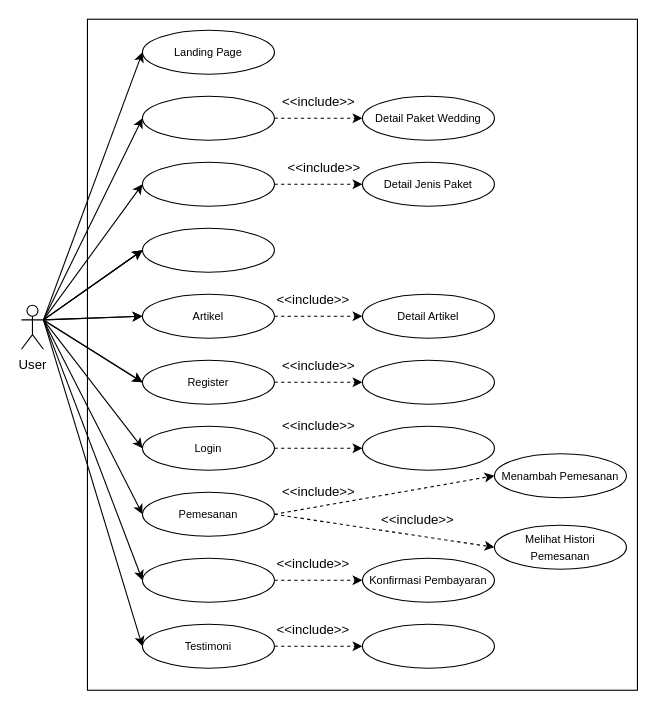
Some shapes in this 657 by 710 pixel diagram are drawn without their labels. Each missing label, with the box of its shape:
Input Register Form: (361, 359, 494, 404)
Input Testimoni: (361, 623, 494, 668)
Jenis Paket: (141, 161, 274, 206)
Logout: (361, 425, 494, 470)
Paket Wedding: (141, 95, 274, 140)
Pembayaran: (141, 557, 274, 602)
Petunjuk dan Persyaratan: (141, 227, 274, 272)
